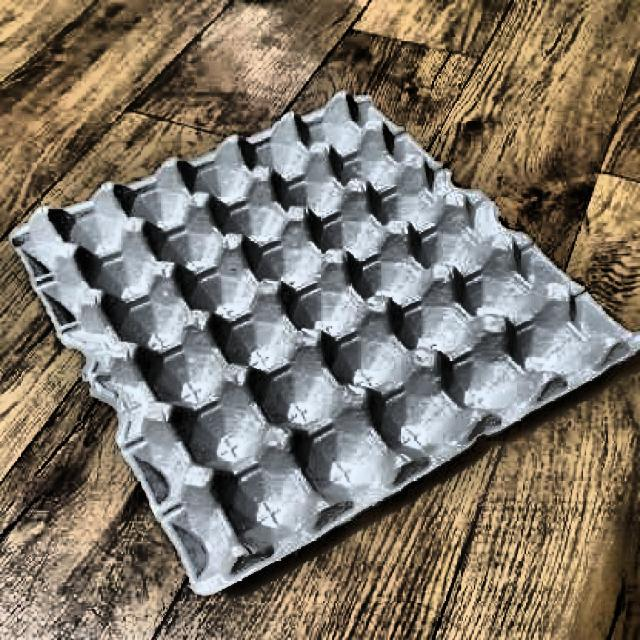Cardbox: (0, 71, 640, 607)
